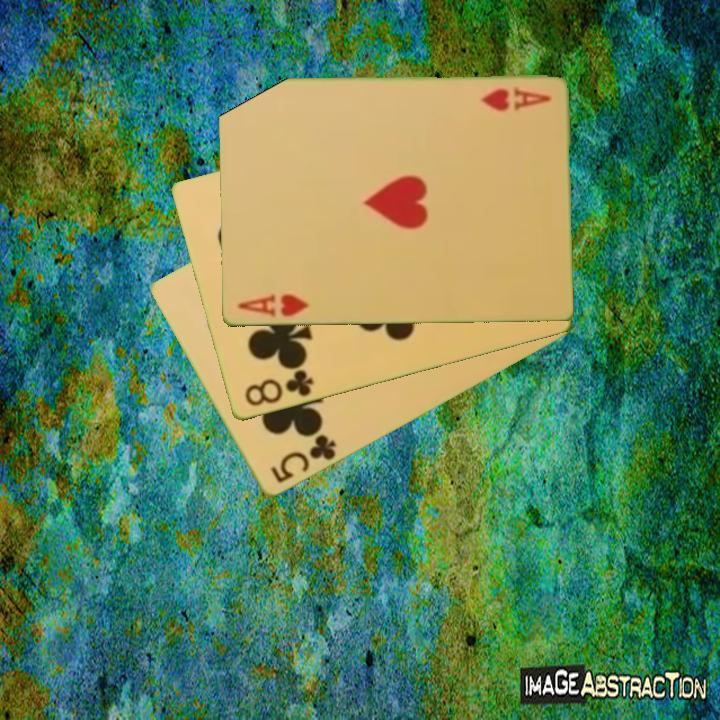5c: (266, 431, 339, 487)
8c: (241, 366, 317, 410)
Ah: (233, 290, 311, 321), (476, 85, 554, 113)
